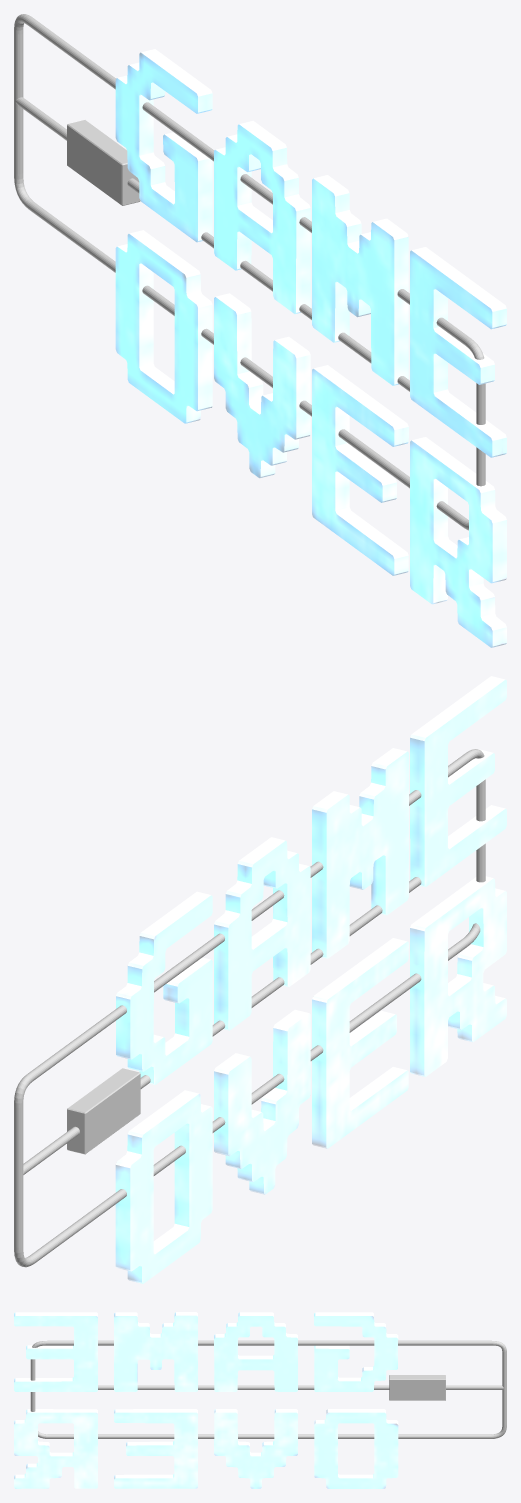
File: SM_Neon_sign_03.fbx
3 views of the same model, one above another, from view 1: azimuth 30°, elevation 25°; view 2: azimuth 150°, elevation 25°; view 3: azimuth 270°, elevation 25° (orthographic). The views are drawn at different scales.
Parts seen in each view (by area): view 1: SM_Neon_sign_03_LOD0; view 2: SM_Neon_sign_03_LOD0; view 3: SM_Neon_sign_03_LOD0.
Part boxes in pixels (x1,y1,x2,y2): SM_Neon_sign_03_LOD0: (14,14,506,647); SM_Neon_sign_03_LOD0: (14,676,506,1283); SM_Neon_sign_03_LOD0: (14,1312,506,1488).
Bounding box in the file's own units: 3.85 × 169 × 65.59.
